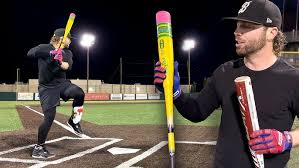baseball bat: (154, 10, 180, 168), (231, 74, 265, 168), (53, 11, 77, 62)
